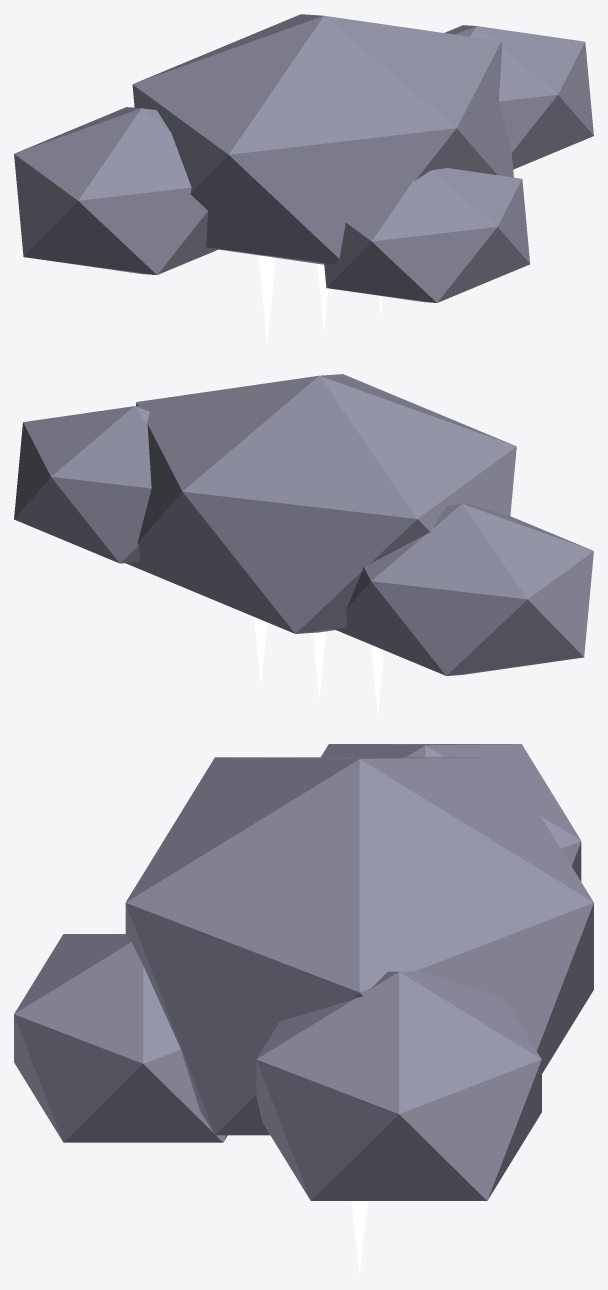
The model's file is cloud_storm.glb.
The picture shows the model from 3 angles, top to bottom: view 1: azimuth 30°, elevation 25°; view 2: azimuth 150°, elevation 25°; view 3: azimuth 270°, elevation 25°; orthographic projection. The views are drawn at different scales.
Parts seen in each view (by area): view 1: StormPuff0; view 2: StormPuff0; view 3: StormPuff0.
Part boxes in pixels (left/top/right/bottom): StormPuff0: left=14, top=14, right=593, bottom=345; StormPuff0: left=14, top=374, right=593, bottom=714; StormPuff0: left=14, top=744, right=593, bottom=1274.
Size of the model in its own units: 2.93 by 1.6 by 1.77.
